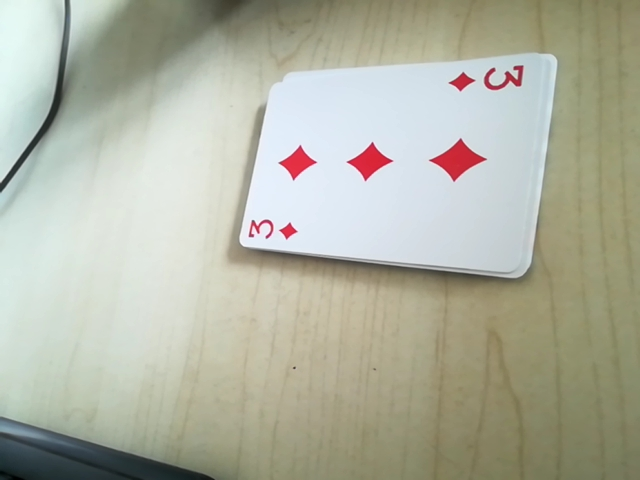fk 3: (444, 56, 530, 100), (242, 210, 302, 251)
